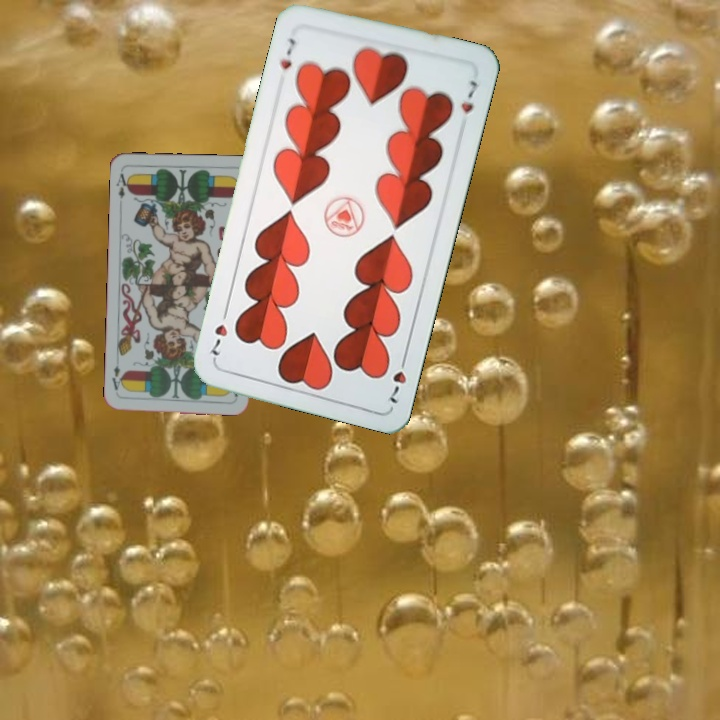EA: (113, 169, 132, 207)
H7: (385, 350, 410, 406), (276, 34, 298, 73)
